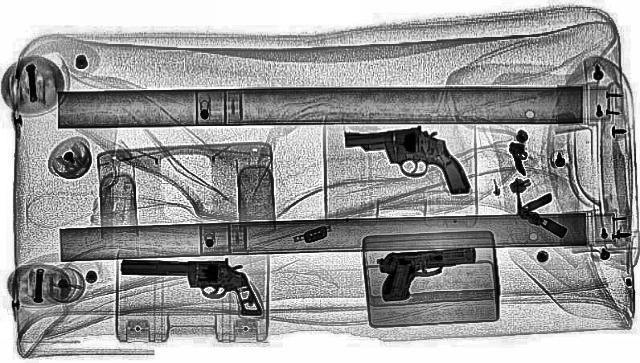Gun: (340, 123, 470, 201), (116, 257, 266, 315), (368, 246, 486, 301)
